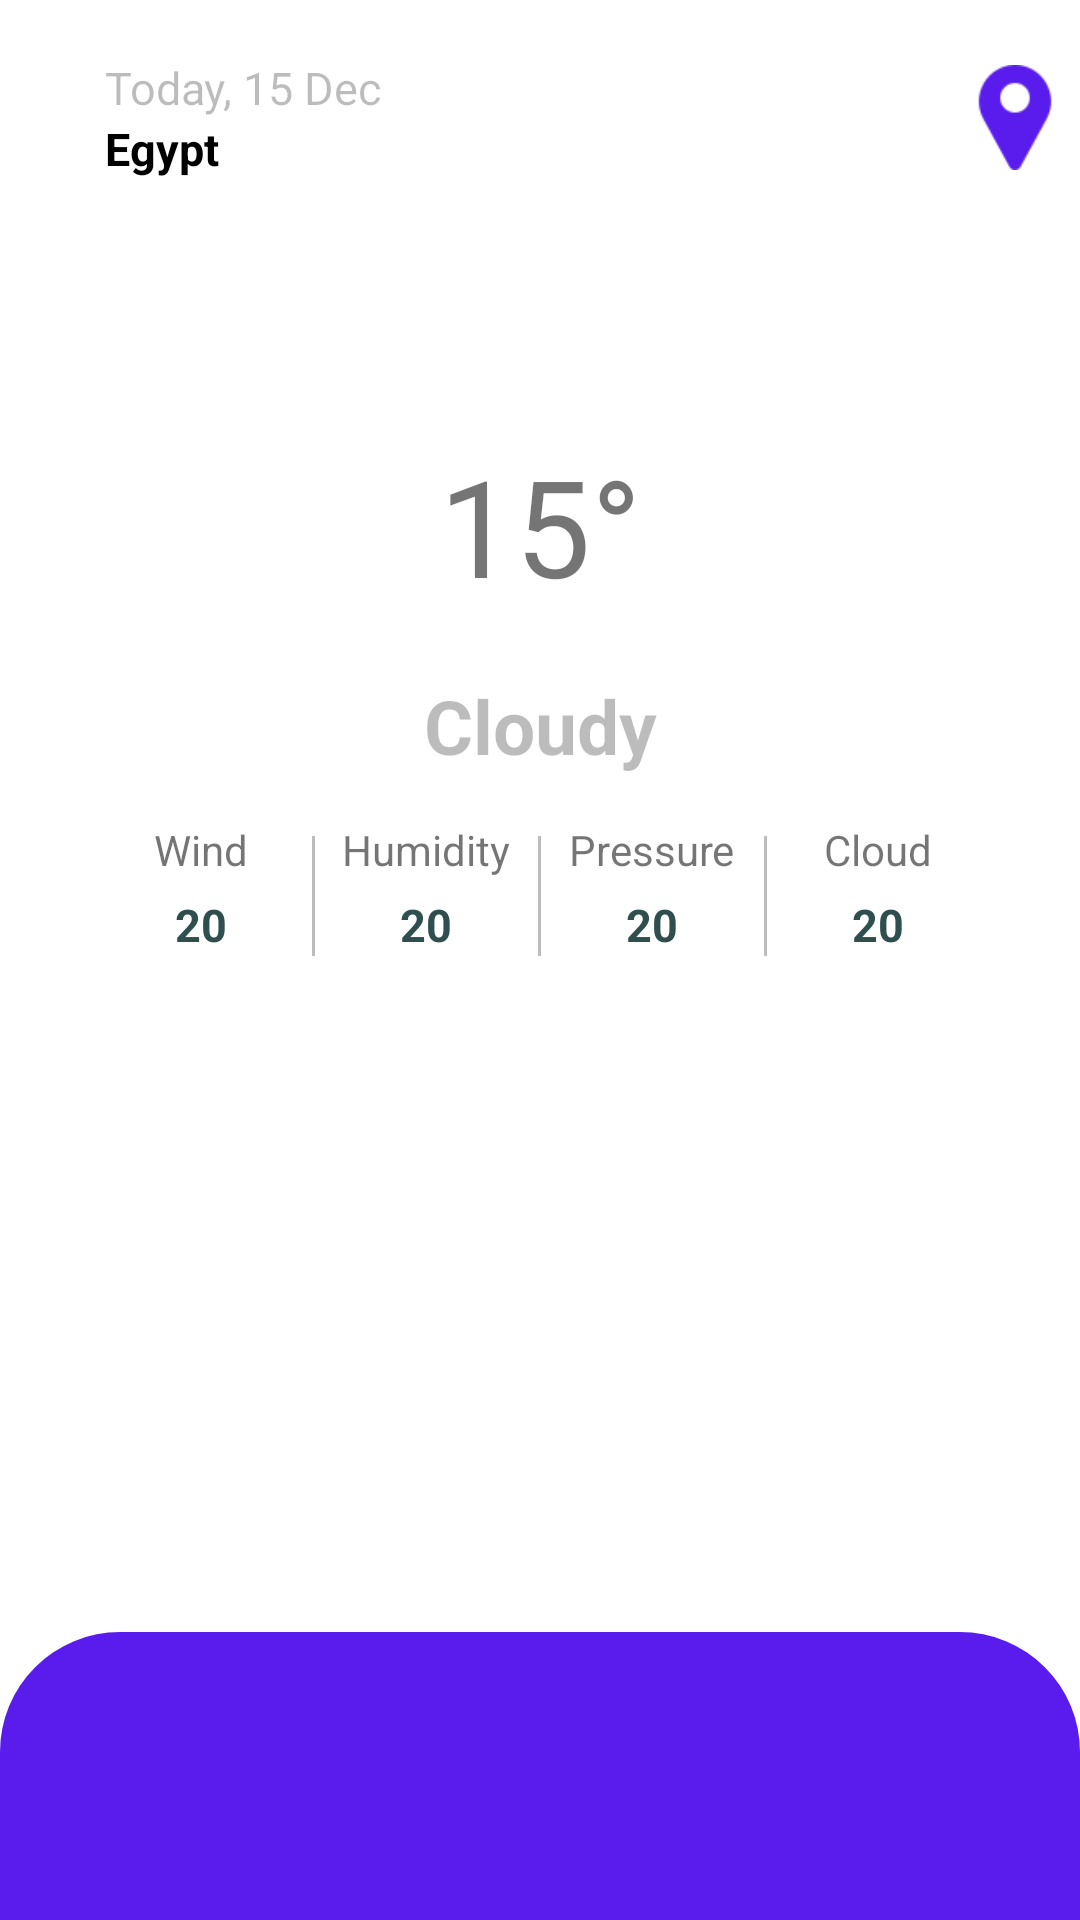

Locate icon controls on the screen. Image size 1080px×1920px, boxes as (x1, y1, x2, y2).
pin: (978, 65, 1052, 170)
